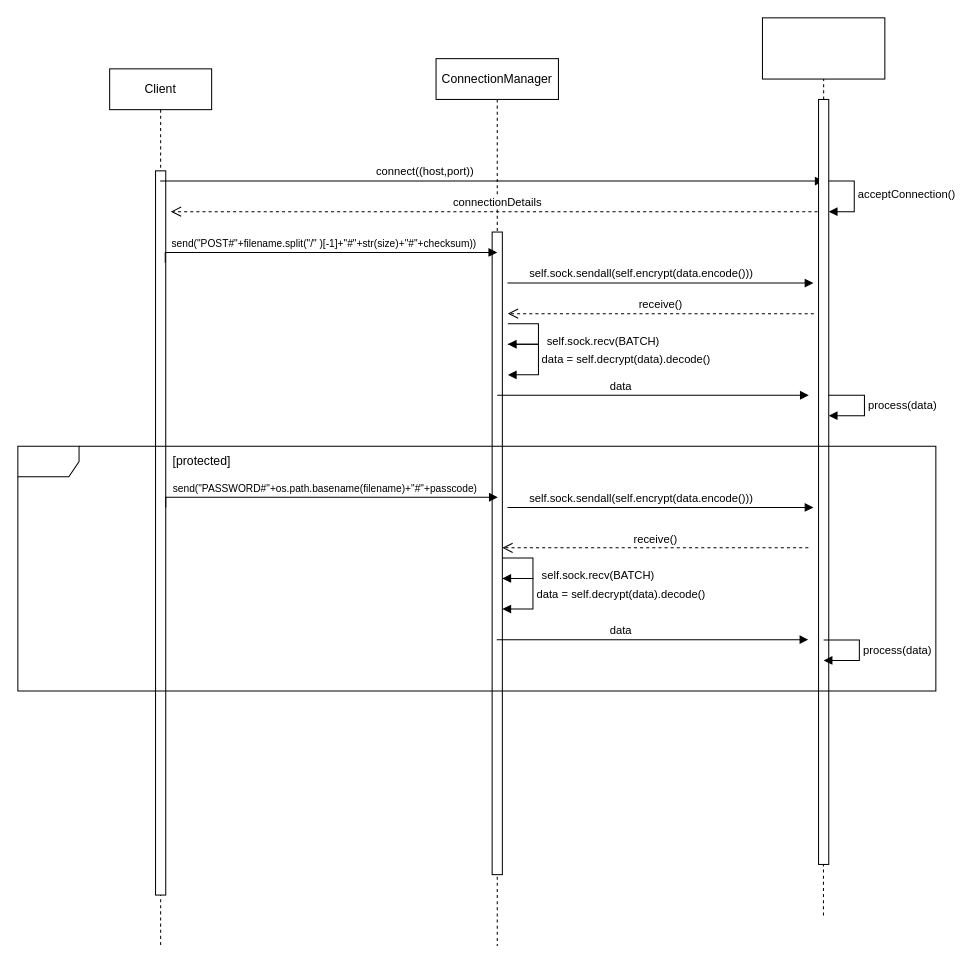
This 973x964 diagram has some shape labels left out. The centre of each missing label's shape, as x and y in pixels:
"opt" belongs at (x=476, y=568).
"Server" belongs at (x=823, y=48).
